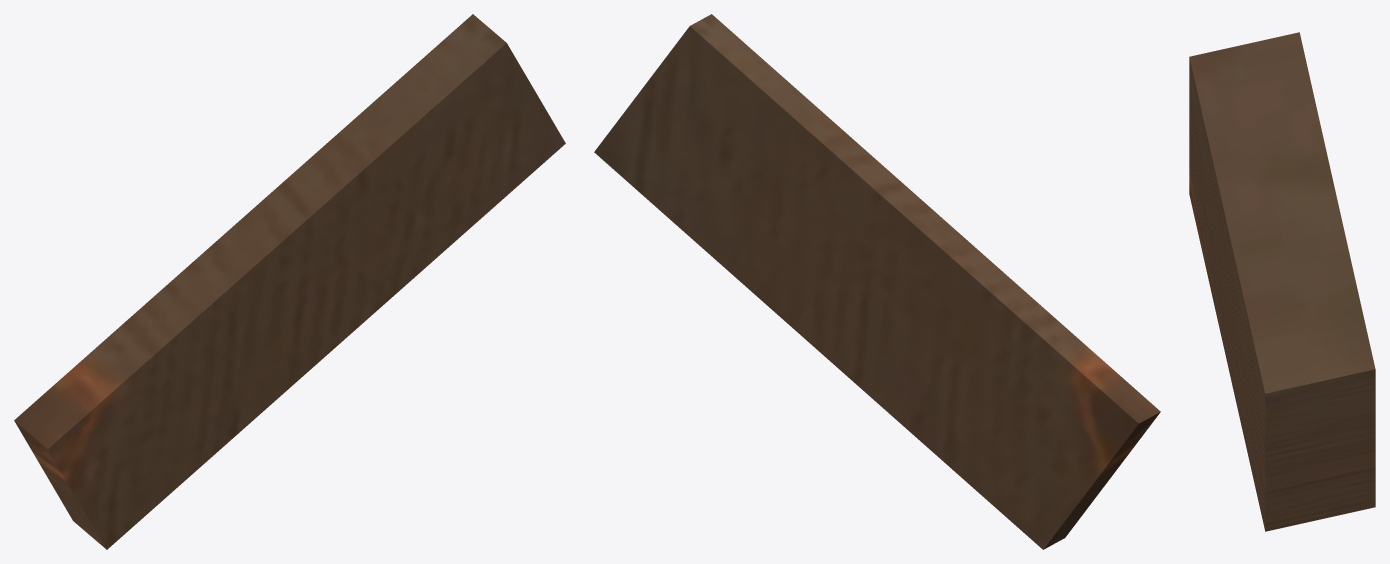
The model's file is fan_right__blade_0.glb.
3 views of the same model, side by side, from view 1: azimuth 30°, elevation 25°; view 2: azimuth 150°, elevation 25°; view 3: azimuth 270°, elevation 25° (orthographic). The views are drawn at different scales.
Visible parts, largest first — view 1: geometry_0; view 2: geometry_0; view 3: geometry_0.
Boxes of the visible parts, bbox=[...] form: geometry_0: bbox=[14, 14, 565, 549]; geometry_0: bbox=[594, 14, 1160, 549]; geometry_0: bbox=[1189, 32, 1375, 531].
Size of the model in its own units: 0.0282 by 0.0218 by 0.00428.
1 material, 1 textured.
